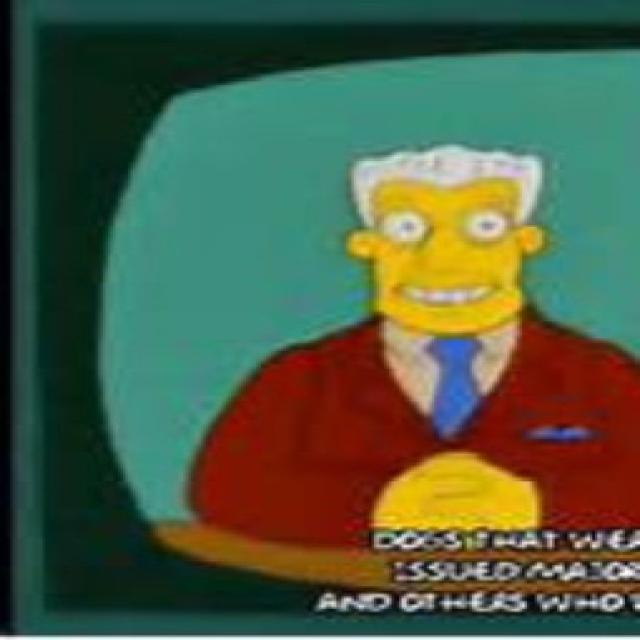Kent Brockman: (337, 141, 556, 342)
